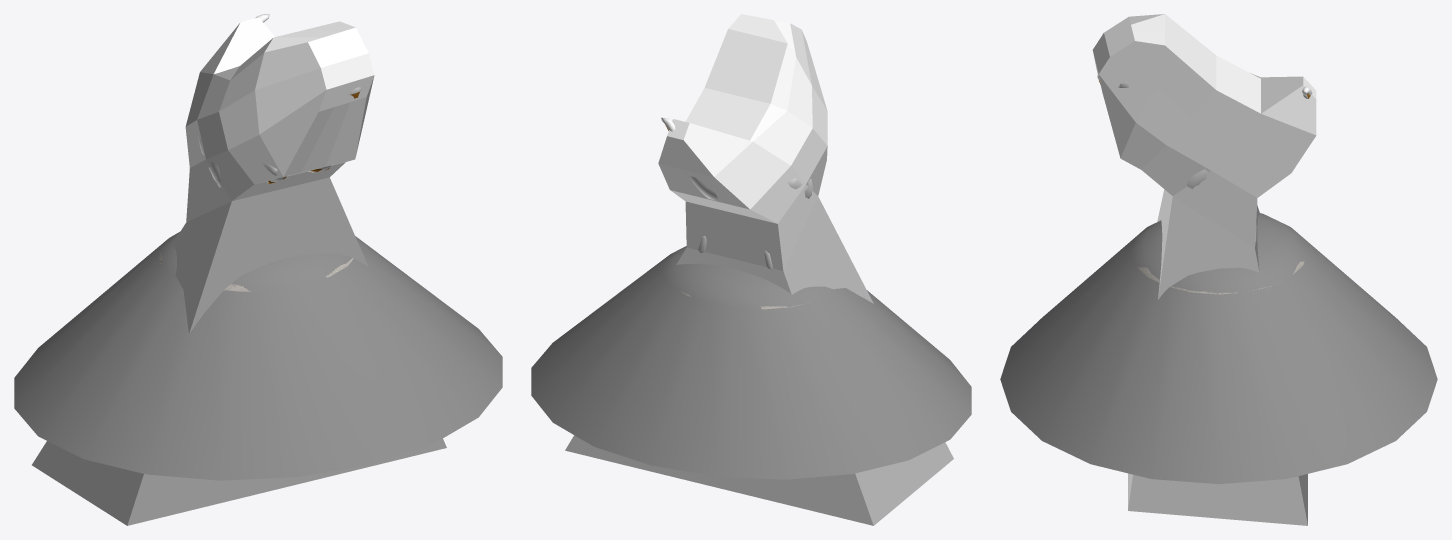
The model's file is s_mascot.dae.
The picture shows the model from 3 angles, left to right: view 1: azimuth 30°, elevation 25°; view 2: azimuth 150°, elevation 25°; view 3: azimuth 270°, elevation 25°; orthographic projection. The views are drawn at different scales.
Parts seen in each view (by area): view 1: Colmesh_mascot-1, mascot_L400; view 2: Colmesh_mascot-1, mascot_L400; view 3: Colmesh_mascot-1, mascot_L400.
Boxes of the visible parts, left/top/right/bottom form: Colmesh_mascot-1: left=14, top=17, right=502, bottom=525; mascot_L400: left=159, top=14, right=361, bottom=291; Colmesh_mascot-1: left=531, top=14, right=971, bottom=525; mascot_L400: left=661, top=117, right=813, bottom=309; Colmesh_mascot-1: left=1000, top=14, right=1437, bottom=525; mascot_L400: left=1097, top=73, right=1312, bottom=294.
Size of the model in its own units: 4.37 by 3.85 by 4.22.
